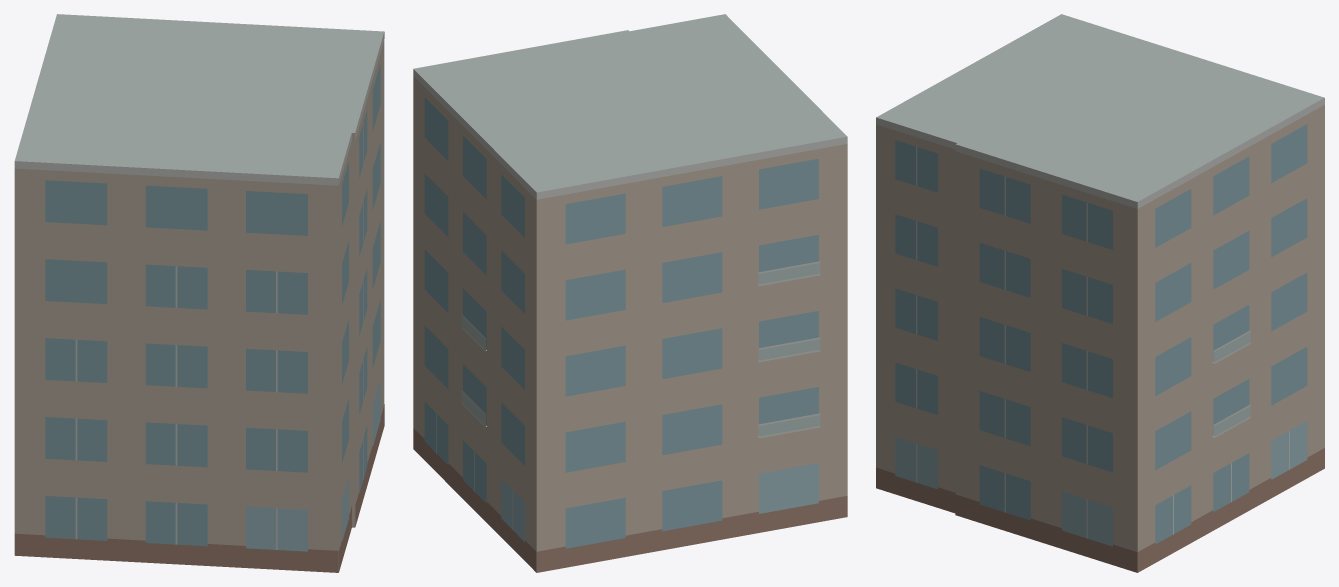
File: survey-upis-32615305.glb
3 views of the same model, side by side, from view 1: azimuth 30°, elevation 25°; view 2: azimuth 150°, elevation 25°; view 3: azimuth 270°, elevation 25° (orthographic). The views are drawn at different scales.
Parts seen in each view (by area): view 1: survey-upis-32615305.tmp; view 2: survey-upis-32615305.tmp; view 3: survey-upis-32615305.tmp.
Boxes of the visible parts, box(x1,y1,x2,y2) form: survey-upis-32615305.tmp: box(14, 14, 384, 572); survey-upis-32615305.tmp: box(413, 14, 847, 572); survey-upis-32615305.tmp: box(876, 14, 1324, 572).
Size of the model in its own units: 14.15 by 13 by 14.27.
